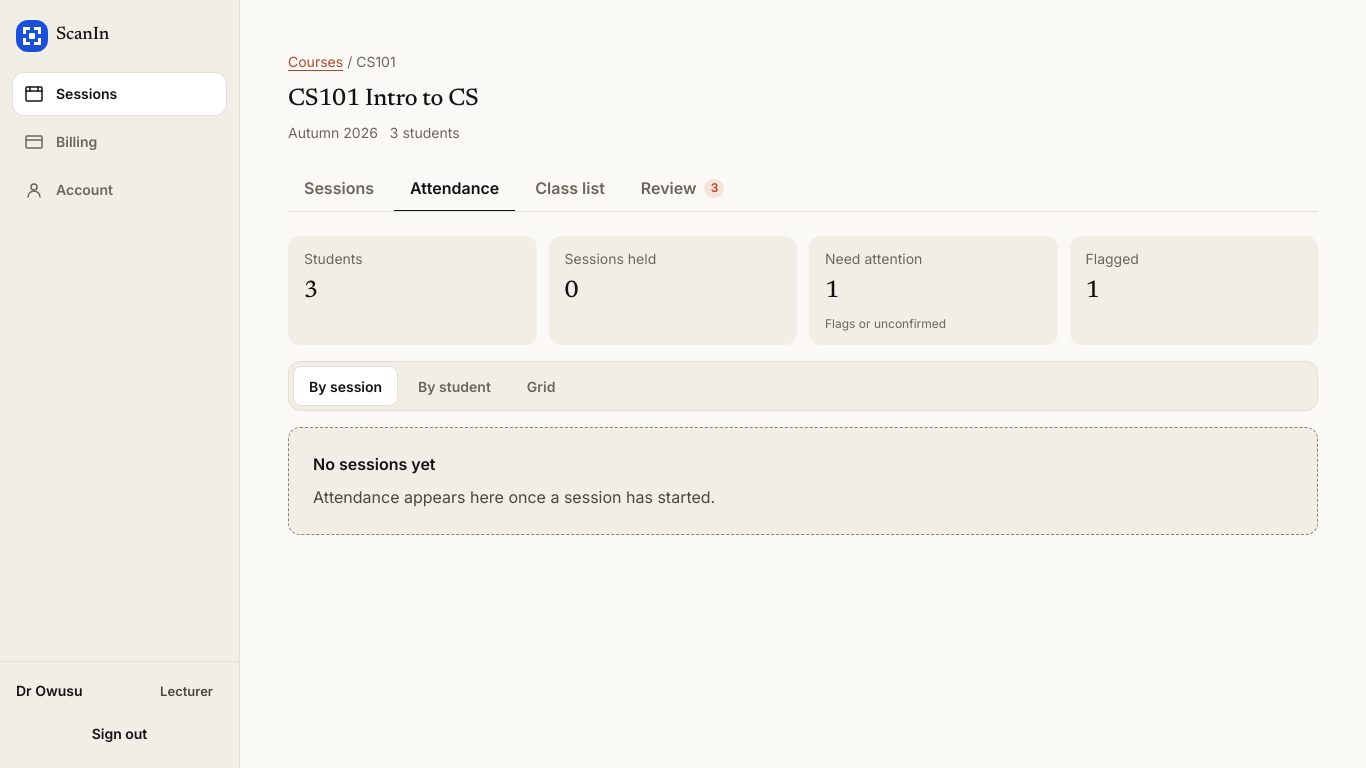
Test: lecturer course workspace › shows attendance by student, a percentage only for confirmed students, and filters
This screenshot has width=1366, height=768.
Click the button "By student": (454, 386) x1=402 y1=366 x2=507 y2=406
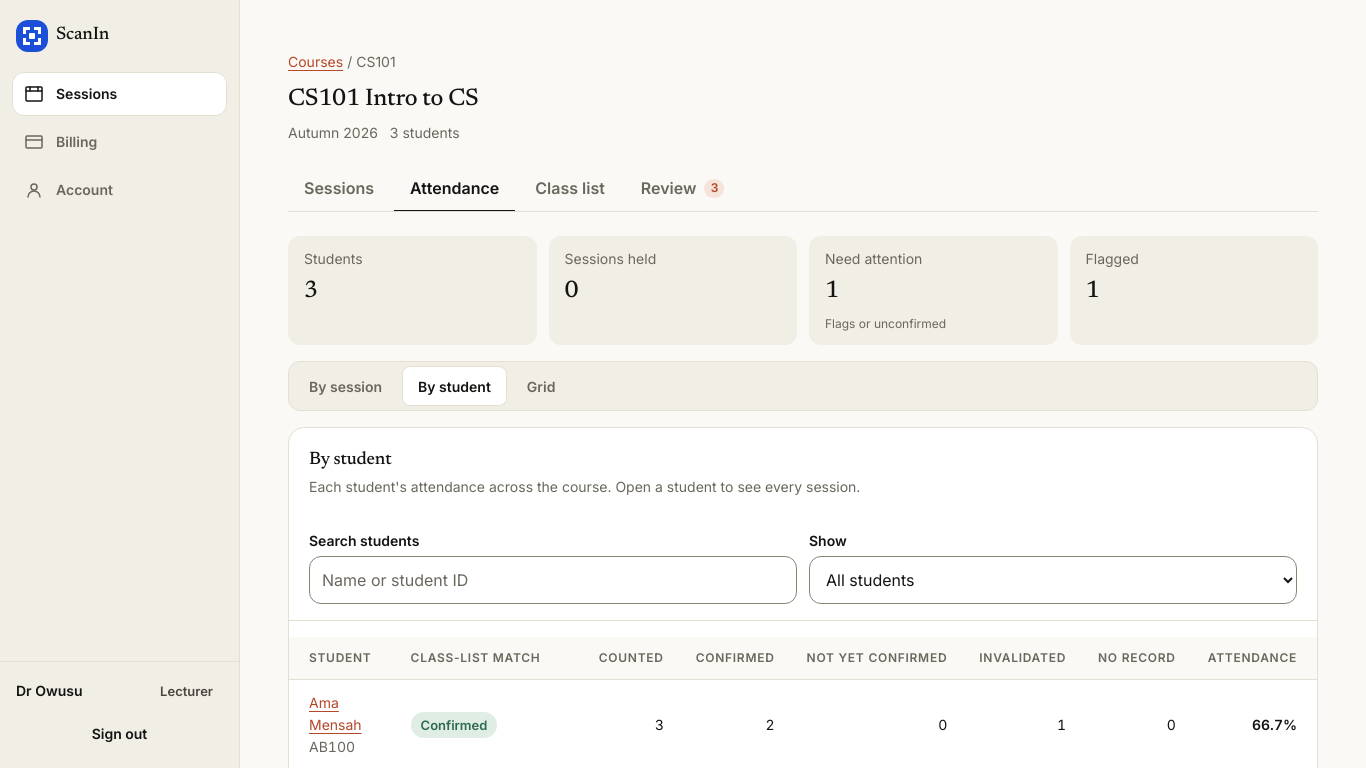
Expected: the row does not show "%"
Result: the number of rows is 3
Select "Need attention" in the dropdown labelled "Show": (1053, 580) x1=809 y1=556 x2=1297 y2=604
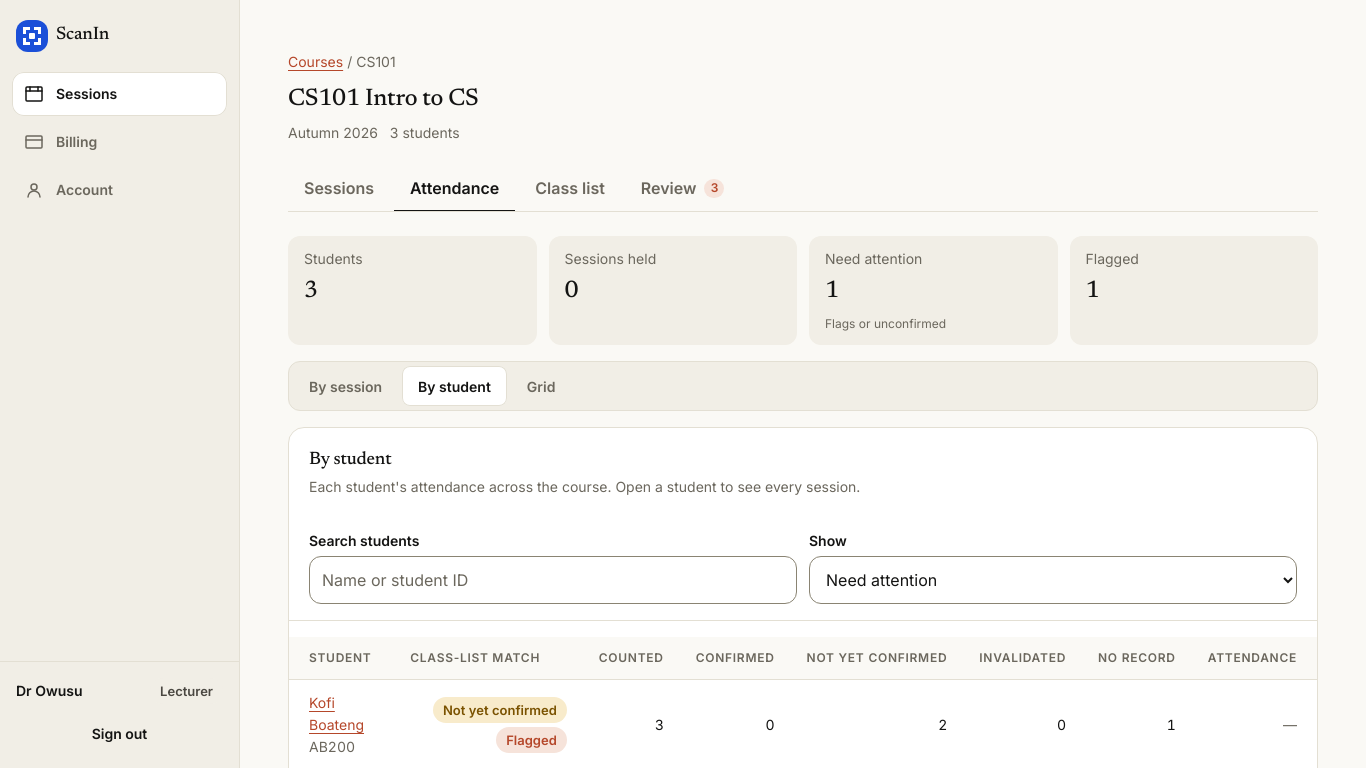
Select "All students" in the dropdown labelled "Show": (1053, 580) x1=809 y1=556 x2=1297 y2=604
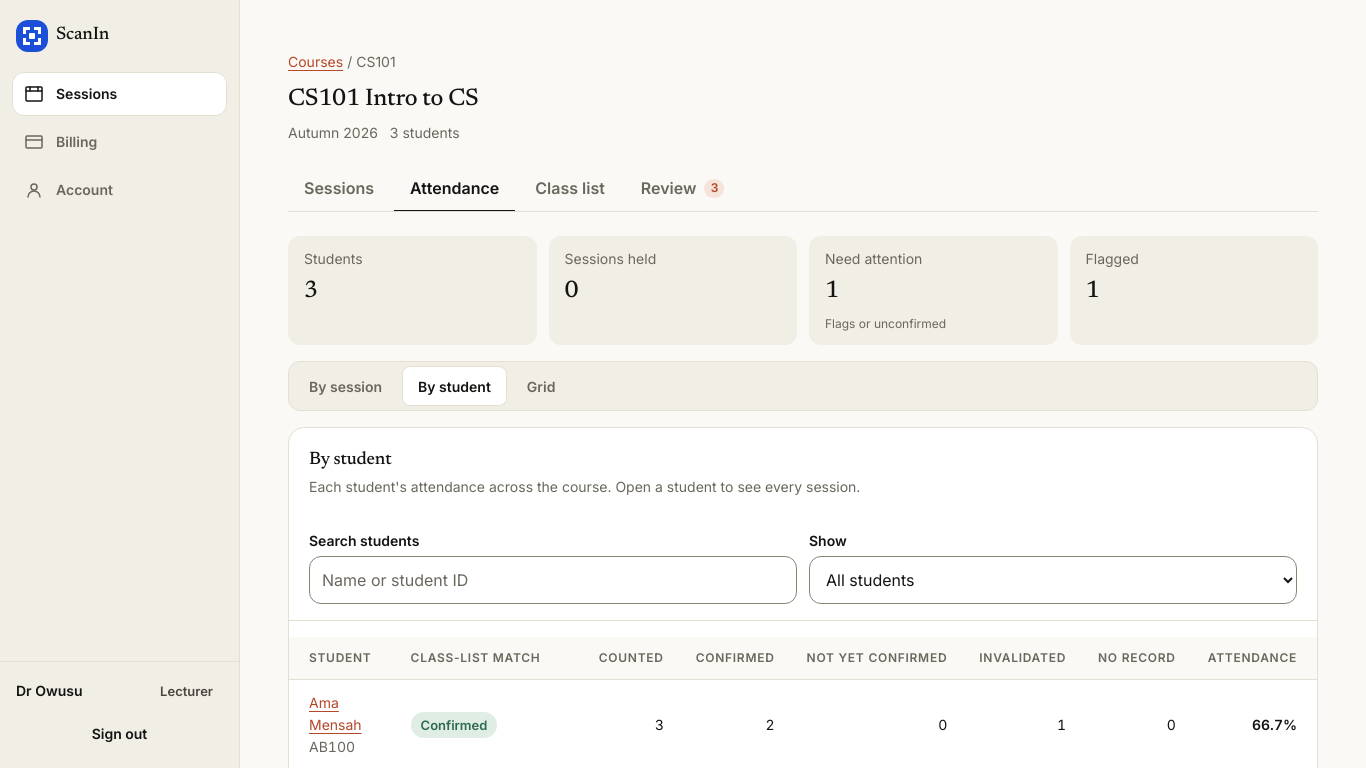
In the search field labelled "Search students": (553, 580) x1=309 y1=556 x2=797 y2=604, type "zzz"
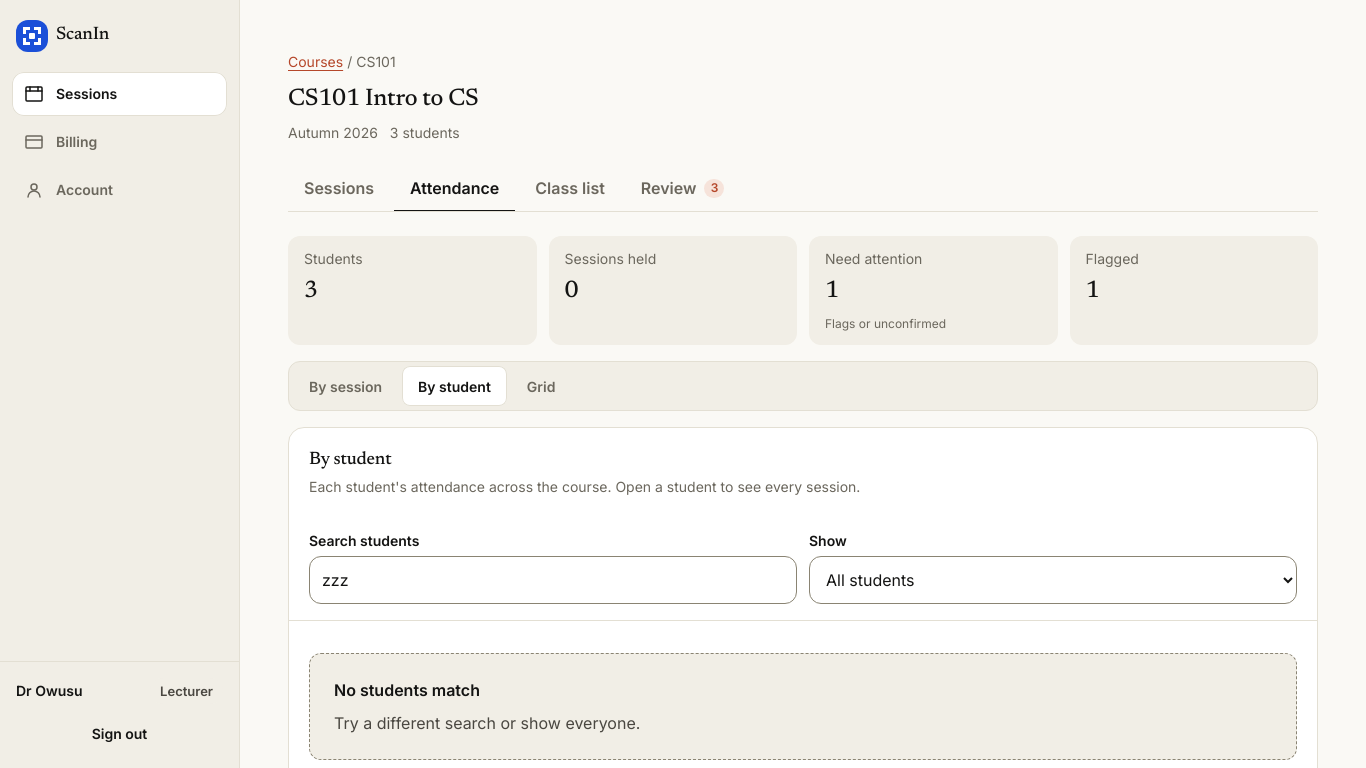
Result: the text "No students match" is shown at x1=334 y1=678 x2=480 y2=703
